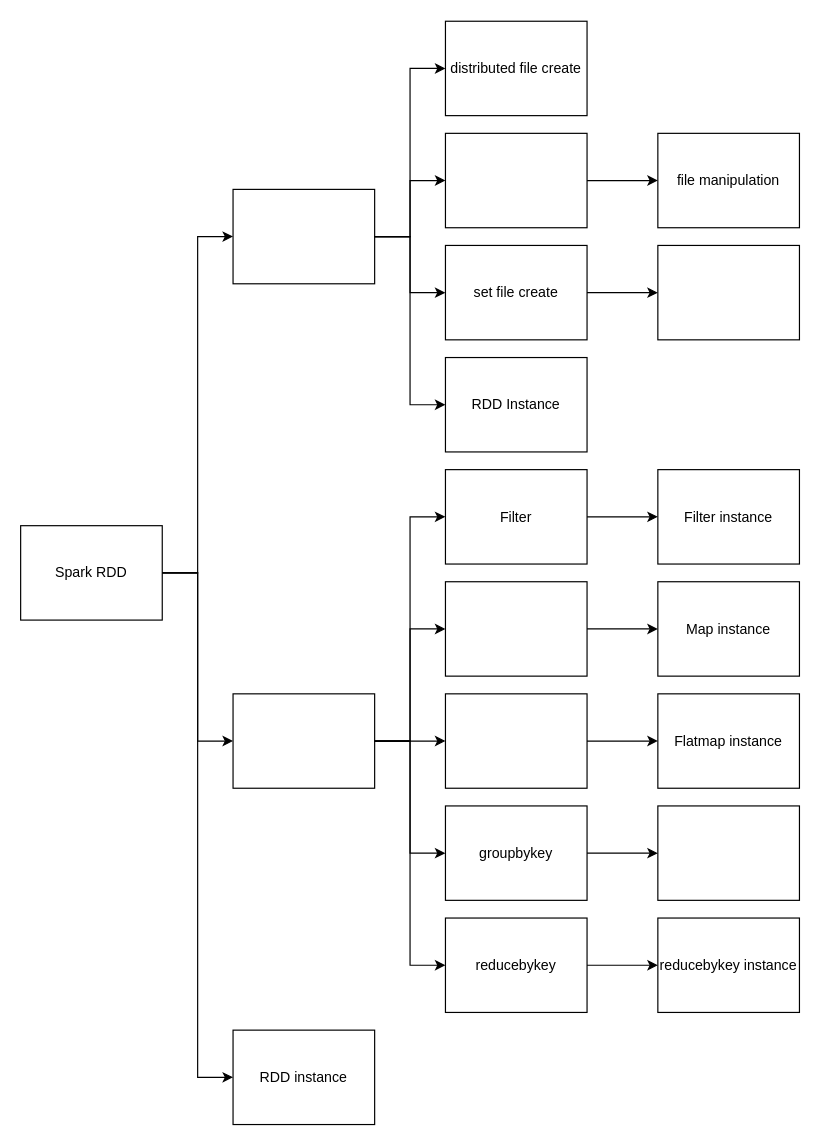
Image size: 820x1145. Some labels were removed from this diagram. The shapes that lost their labels are listed below. From the top down, each one's centre as x and y in pixels, then its label:
point (515, 180): local file create
point (303, 236): create RDD
point (728, 292): Python list
point (515, 628): Map
point (303, 740): RDD conversion
point (515, 740): Flatmap
point (728, 852): groupbykey instance
